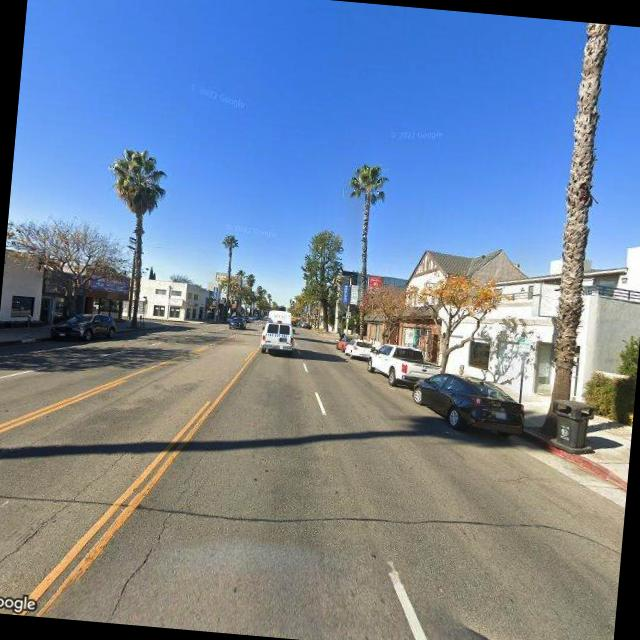crack: (0, 431, 130, 591), (108, 441, 207, 629)
